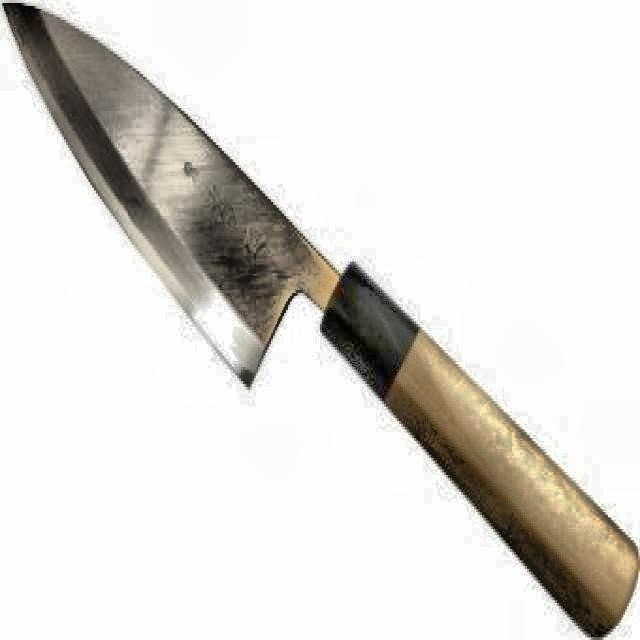knife: (2, 2, 640, 638)
